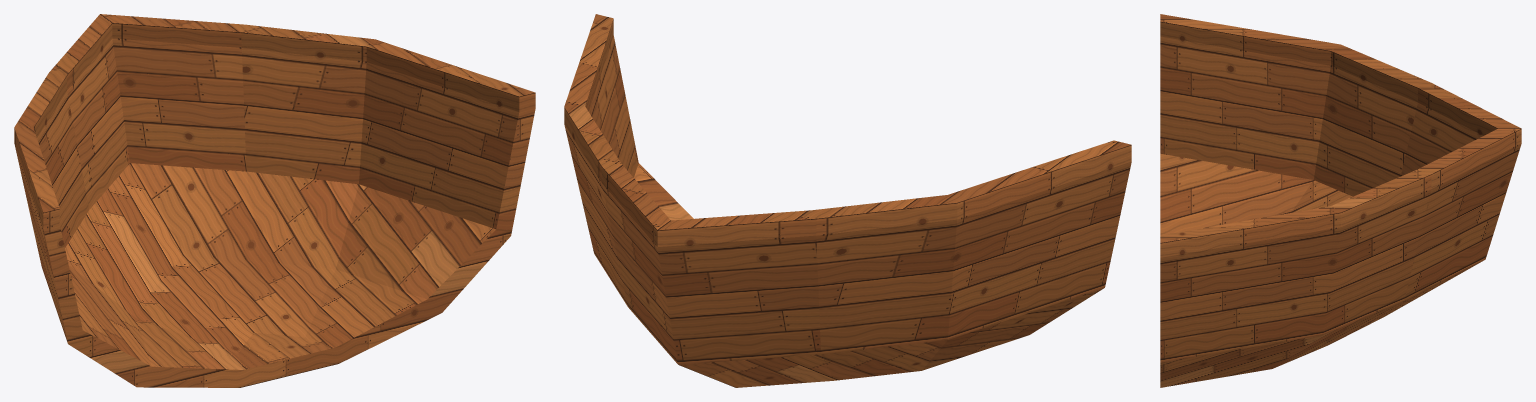
File: BOTTOM_BOW.glb
3 renders of one model, left to right at view 1: azimuth 30°, elevation 25°; view 2: azimuth 150°, elevation 25°; view 3: azimuth 270°, elevation 25°, orthographic. The views are drawn at different scales.
Parts seen in each view (by area): view 1: BOTTOM_BOW; view 2: BOTTOM_BOW; view 3: BOTTOM_BOW.
Boxes of the visible parts, box(x1,y1,x2,y2) form: BOTTOM_BOW: box(14, 14, 535, 387); BOTTOM_BOW: box(564, 14, 1131, 387); BOTTOM_BOW: box(1160, 14, 1521, 387).
Size of the model in its own units: 6 by 2.6 by 4.
1 material, 1 textured.
